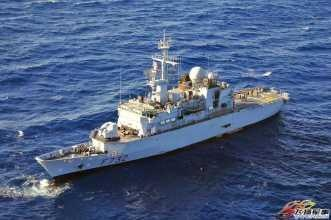warship: (37, 38, 285, 177)
